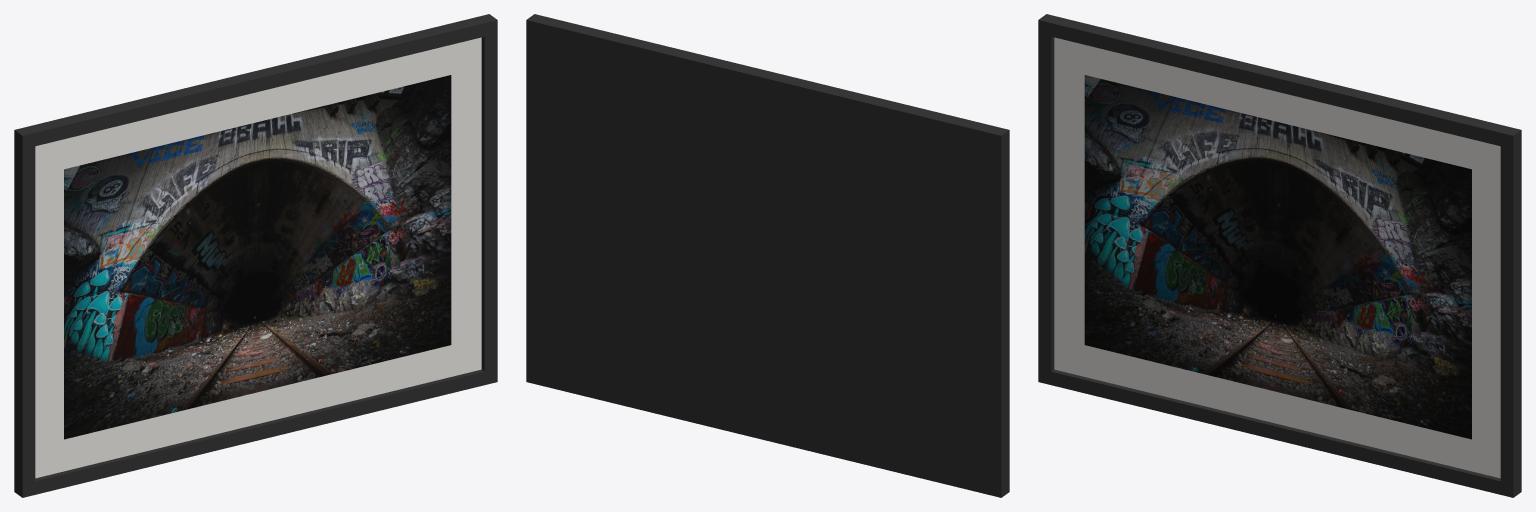
The model's file is tunneln-60.gltf.
The picture shows the model from 3 angles, left to right: view 1: azimuth 30°, elevation 25°; view 2: azimuth 150°, elevation 25°; view 3: azimuth 330°, elevation 25°; orthographic projection.
Parts seen in each view (by area): view 1: tavla; view 2: tavla; view 3: tavla.
Part boxes in pixels (bbox=[...]): tavla: bbox=[14, 14, 497, 497]; tavla: bbox=[526, 14, 1009, 497]; tavla: bbox=[1038, 14, 1521, 497].
Bounding box in the file's own units: 0.736 × 0.536 × 0.022.
Materials: 3 (1 with a texture image).
